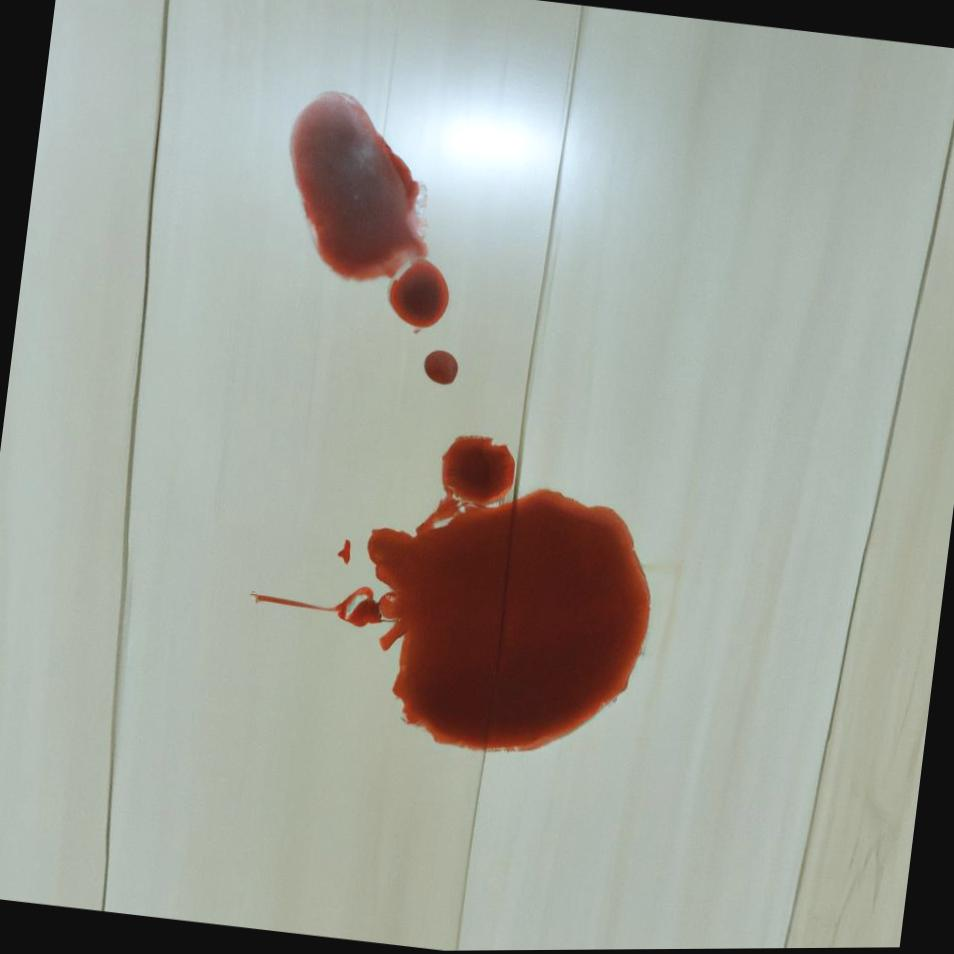Fire: (250, 435, 651, 754), (289, 91, 449, 334), (424, 351, 459, 386)
